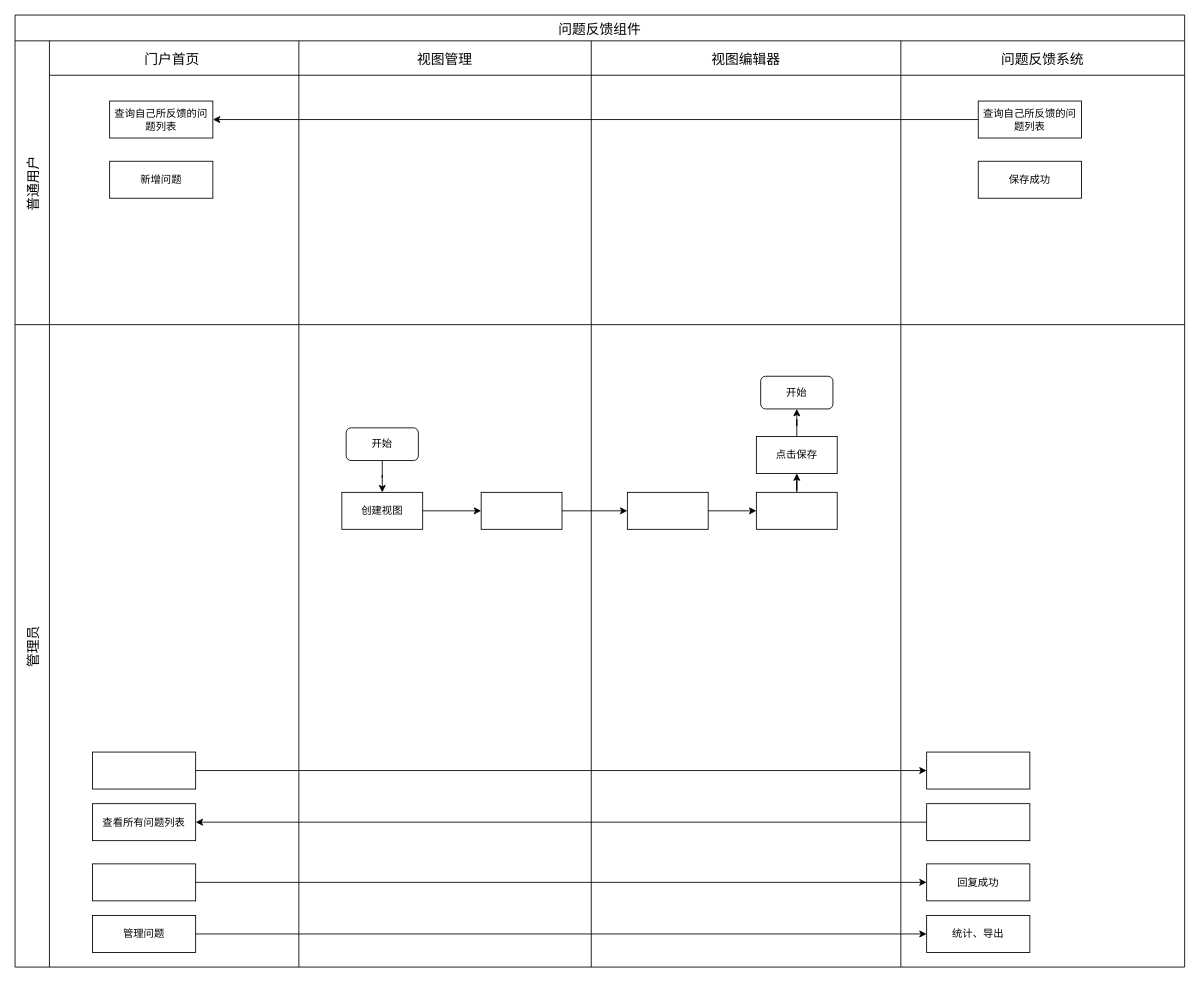
The diagram is 1200 pixels wide and 982 high, and some of its shapes have lost their labels. Here are the shapes that lost their labels. From the top down, the centre of each, then its label:
At point 521,510: "视图授权".
At point 667,510: "拖拽问题反馈组件".
At point 796,510: "进行相关配置".
At point 144,770: "接受问题".
At point 978,770: "接受成功".
At point 978,822: "查询所有问题列表".
At point 144,882: "回复问题".
